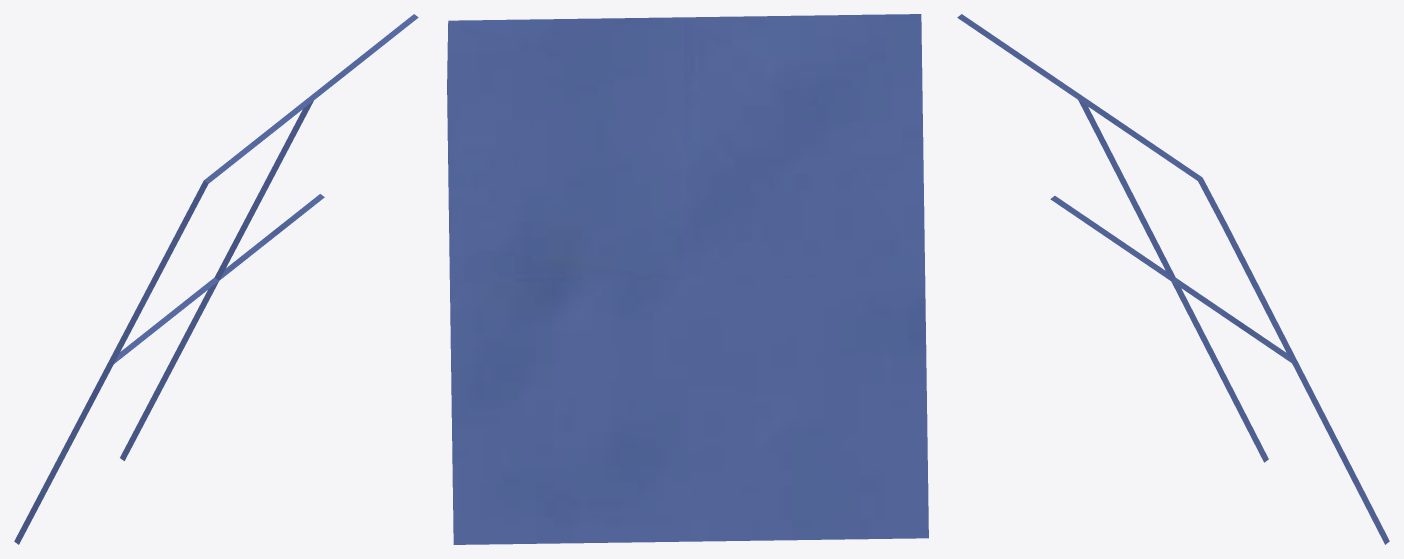
3 views of the same model, side by side, from view 1: azimuth 30°, elevation 25°; view 2: azimuth 150°, elevation 25°; view 3: azimuth 270°, elevation 25° (orthographic). The views are drawn at different scales.
Size of the model in its own units: 19638 by 17762 by 16808.
Materials: 1 (1 with a texture image).
